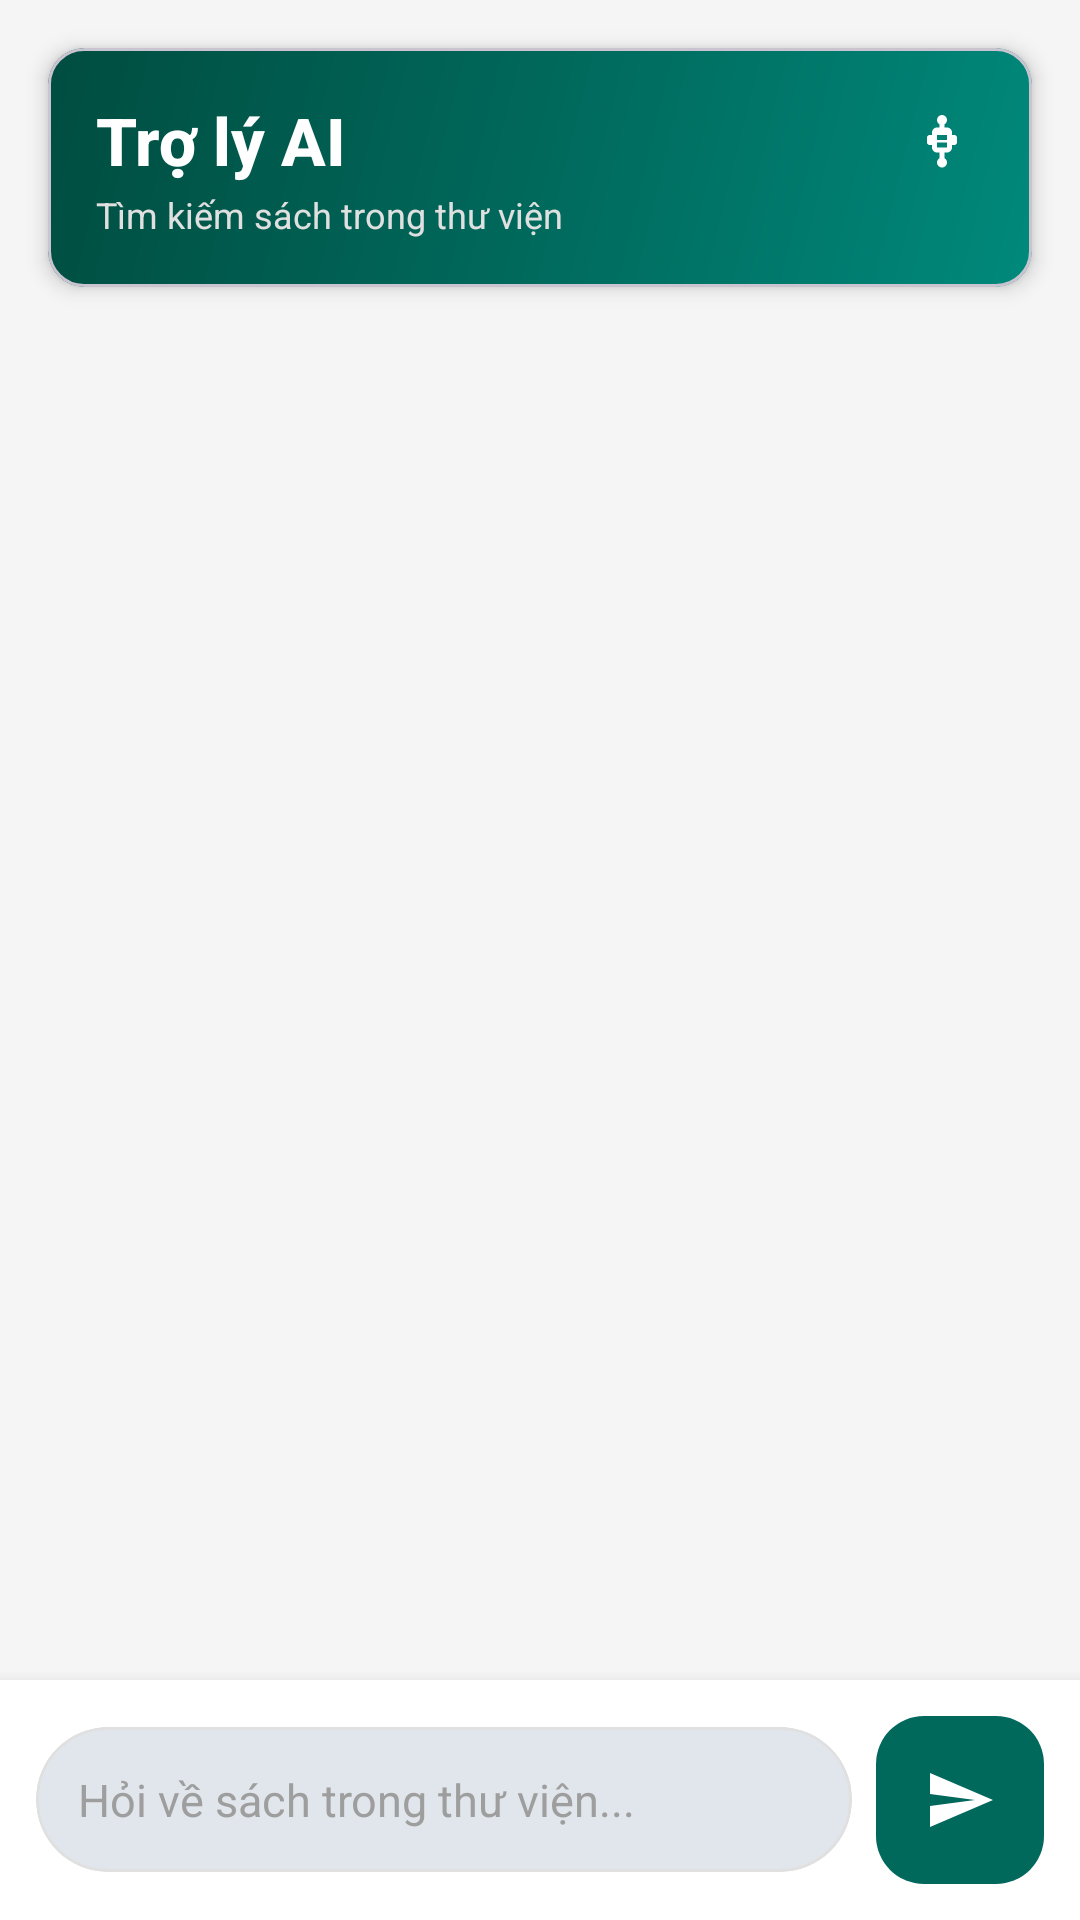

Screen size 1080 × 1920. Icon name, then its box in pixels as (x1, y1, x2, y2):
send: (876, 1716, 1044, 1884)
